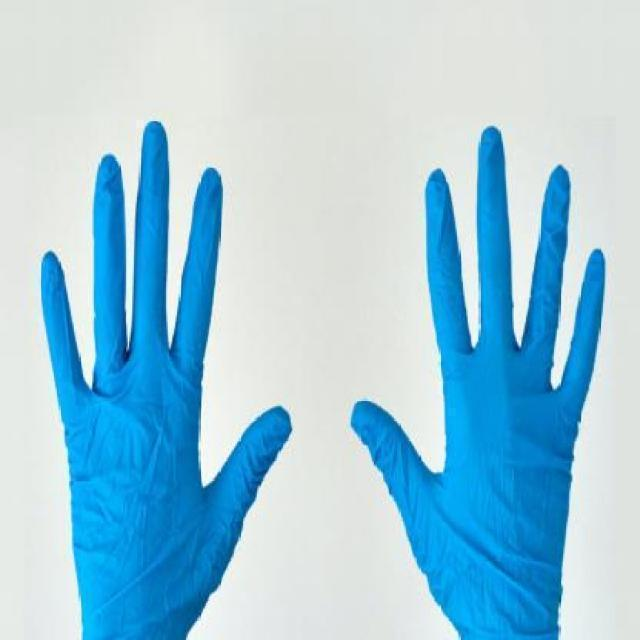gloved_hand: (35, 118, 311, 640), (358, 120, 607, 639)
